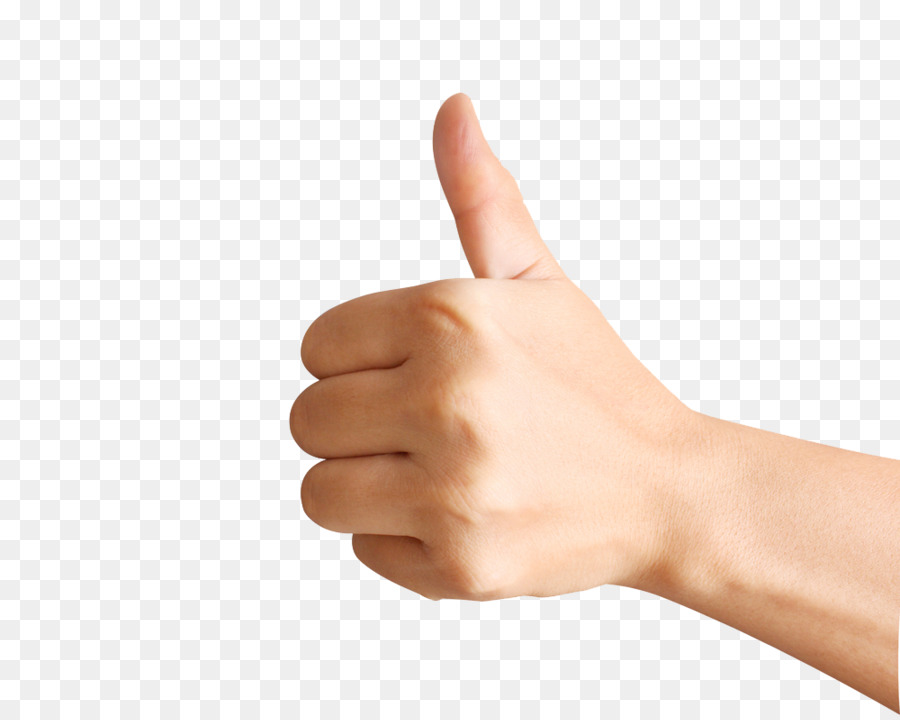thumbsup: (285, 89, 602, 602)
